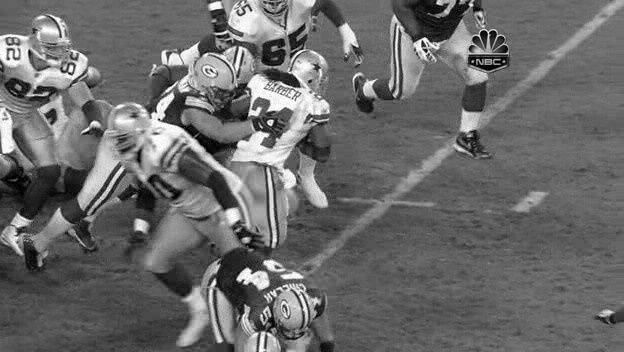person: (293, 51, 328, 95), (292, 51, 327, 95), (294, 51, 329, 95), (293, 50, 328, 94), (293, 52, 328, 96)
target_negative: (218, 140, 607, 188), (454, 45, 555, 214), (407, 78, 511, 134), (426, 93, 460, 193), (435, 168, 490, 193), (319, 163, 334, 176)
